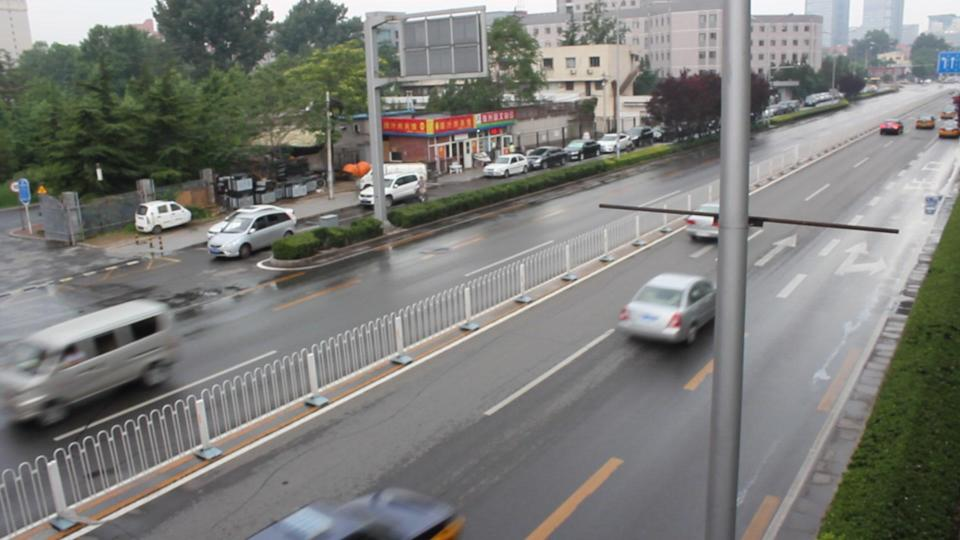Car: (619, 271, 720, 346), (685, 204, 749, 240)
Minivan: (21, 301, 173, 422)
